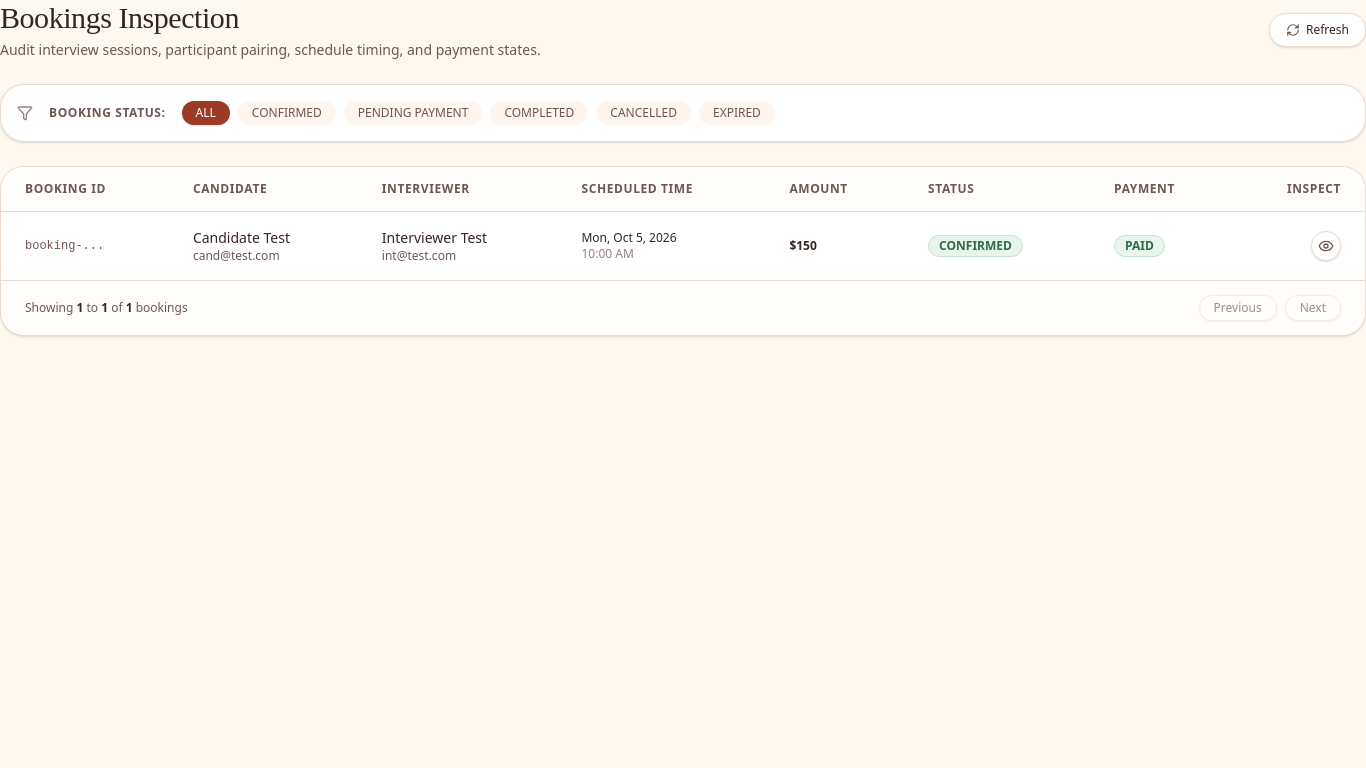
Admin Portal Frontend › AdminBookingsPage › fetches and renders bookings table and opens inspection modal
The width and height of the screenshot is (1366, 768).
Check: the text "Candidate Test" is shown, box [193,228,290,247]
Check: the text "Interviewer Test" is shown, box [382,228,487,247]
Click the button titled "View booking details" at x=1326, y=246, box [1311,231,1341,261]
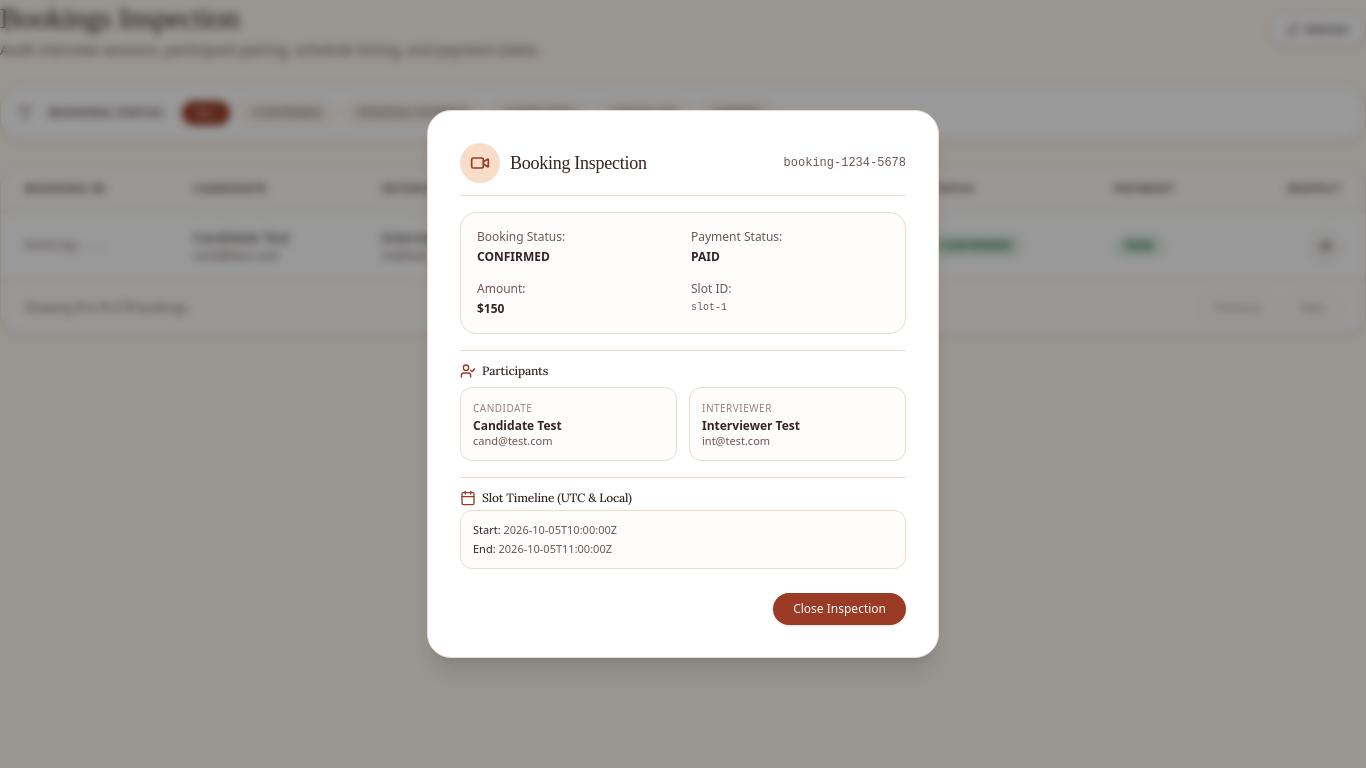
Check: the heading "Booking Inspection" is shown, box [510,148,647,176]
Check: the heading "Participants" is shown, box [460,362,548,378]
